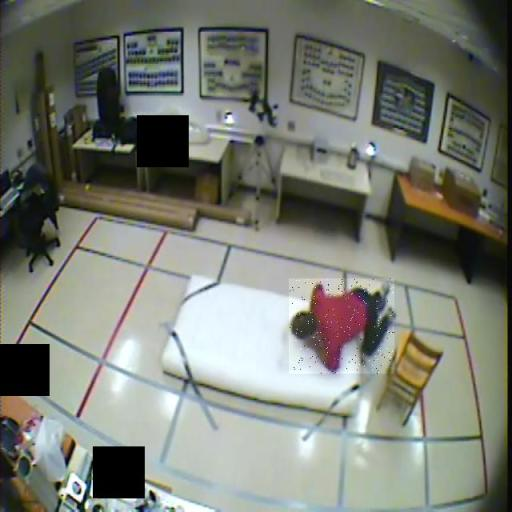Fall: (289, 279, 394, 374)
